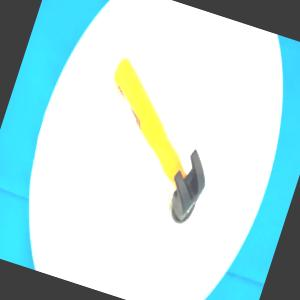martelo: (75, 51, 236, 226)
